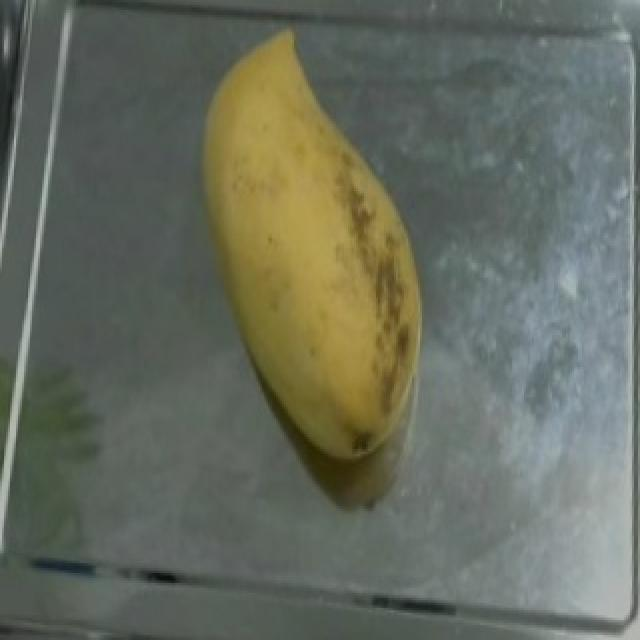fruit: (176, 12, 440, 424)
